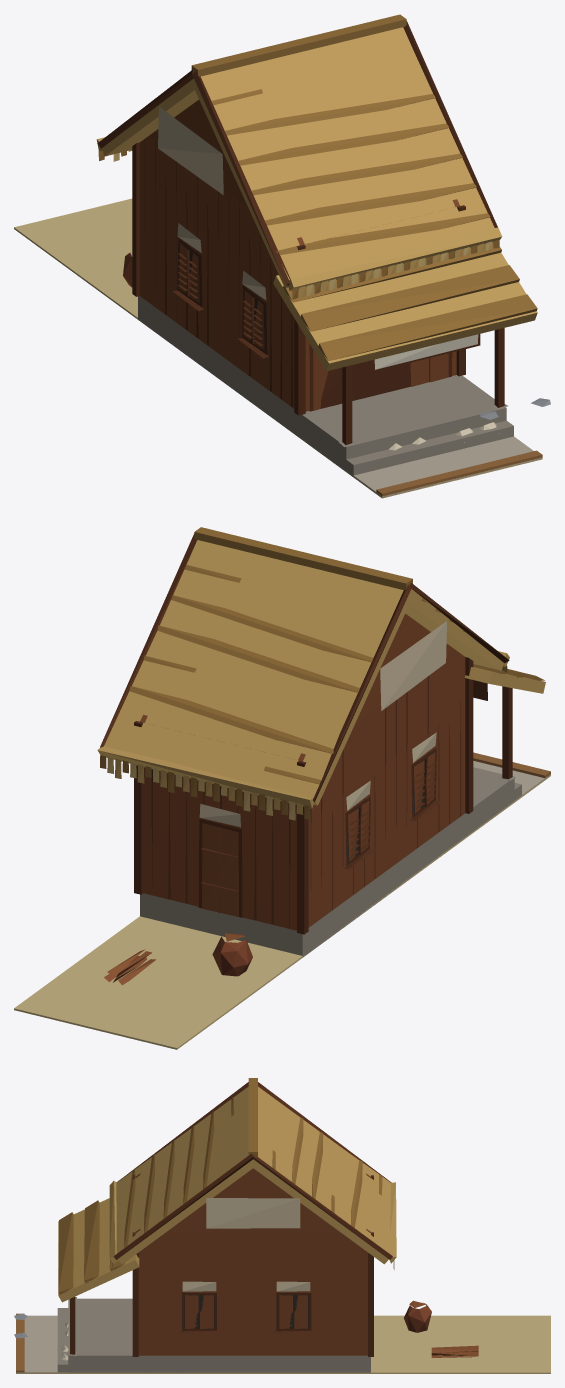
The model's file is bay2_one.glb.
The picture shows the model from 3 angles, top to bottom: view 1: azimuth 30°, elevation 25°; view 2: azimuth 150°, elevation 25°; view 3: azimuth 270°, elevation 25°; orthographic projection. The views are drawn at different scales.
Parts seen in each view (by area): view 1: body; view 2: body; view 3: body, windows.
Boxes of the visible parts, x1,y1,x2,y2 form: body: (14,14,550,498); body: (14,527,550,1049); body: (14,1078,550,1373); windows: (184,1295,308,1328).
Bounding box in the file's own units: 5.43 × 7.57 × 15.96.
